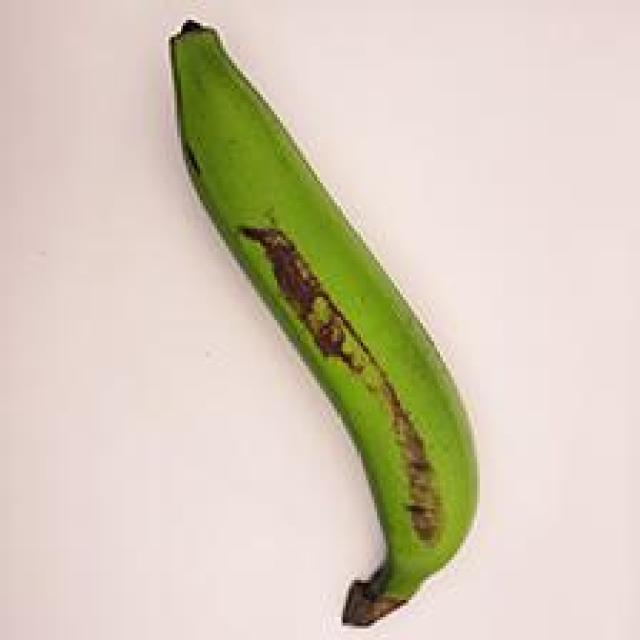Raw: (127, 13, 515, 638)
